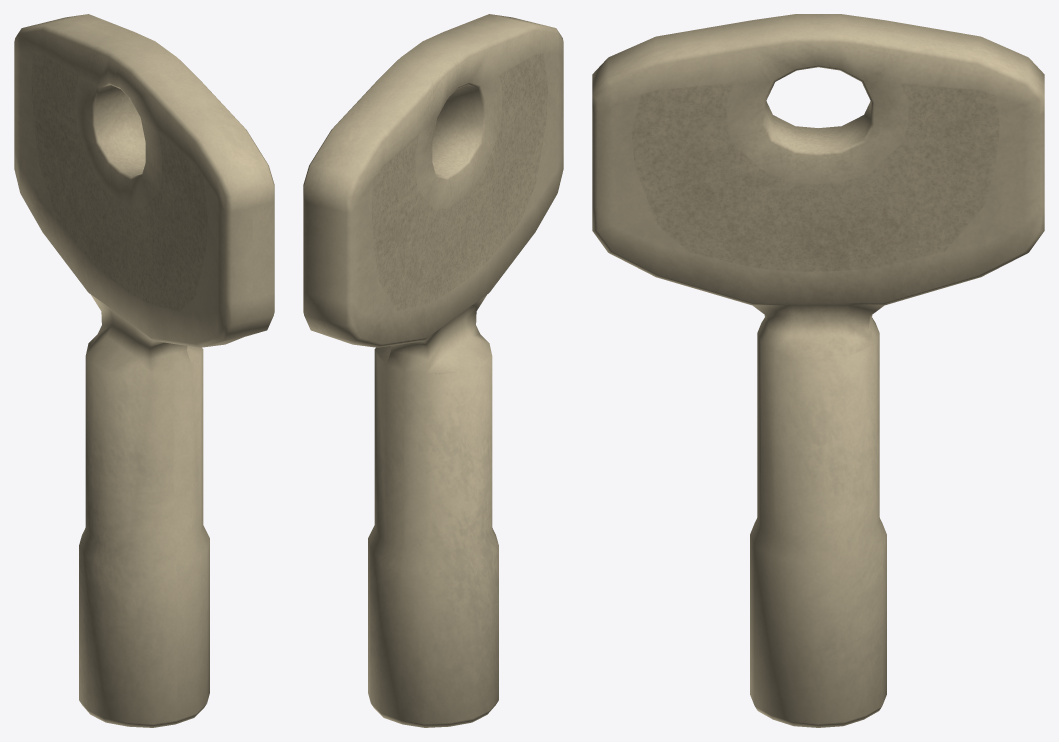
Rendered from abloy_wallmounted8.fbx.
3 views of the same model, side by side, from view 1: azimuth 30°, elevation 25°; view 2: azimuth 150°, elevation 25°; view 3: azimuth 270°, elevation 25° (orthographic). The views are drawn at different scales.
Parts seen in each view (by area): view 1: Plane; view 2: Plane; view 3: Plane.
Part boxes in pixels (x1=…): Plane: x1=14, y1=14, x2=274, y2=727; Plane: x1=303, y1=14, x2=563, y2=727; Plane: x1=592, y1=14, x2=1044, y2=727.
Bounding box in the file's own units: 180 × 981 × 596.
